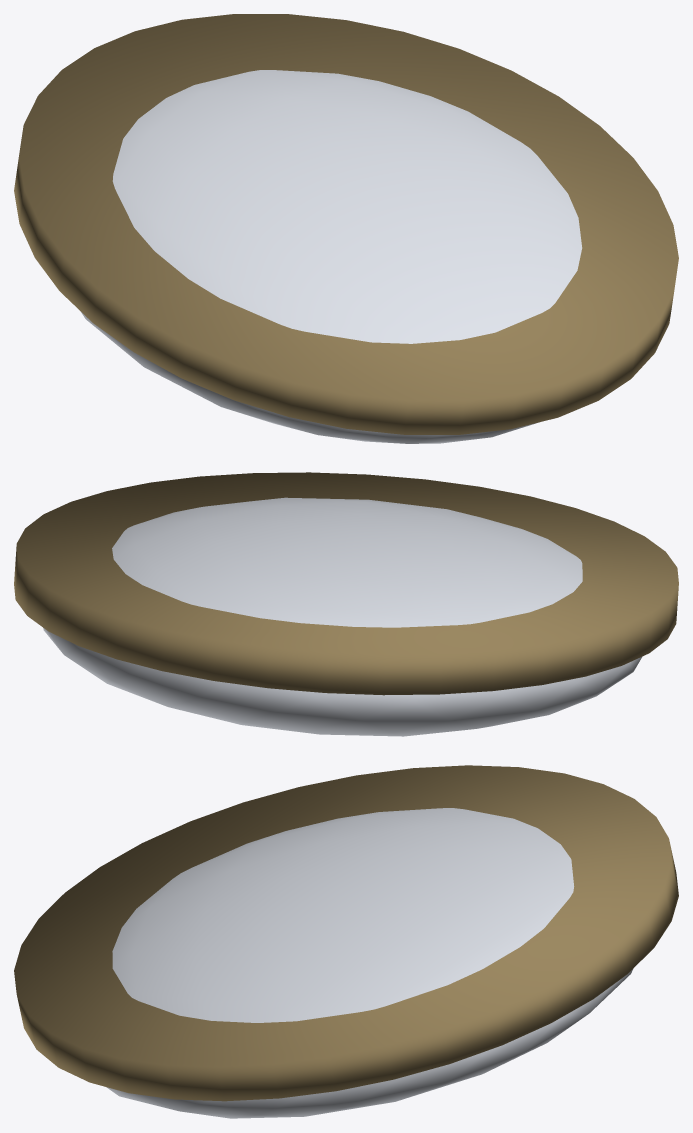
File: shield.glb
3 renders of one model, top to bottom at view 1: azimuth 30°, elevation 25°; view 2: azimuth 150°, elevation 25°; view 3: azimuth 270°, elevation 25°, orthographic. The views are drawn at different scales.
Visible parts, largest first — view 1: shield; view 2: shield; view 3: shield.
Part boxes in pixels (x1,y1,x2,y2): shield: (14, 14, 678, 443); shield: (14, 472, 678, 736); shield: (14, 765, 678, 1118).
Size of the model in its own units: 3.43 by 1.2 by 3.74.
